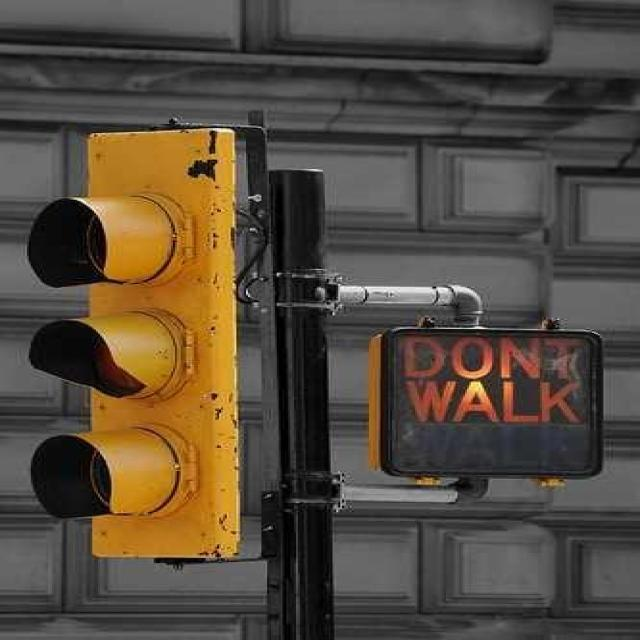Traffic Light -Off-: (10, 124, 267, 572)
